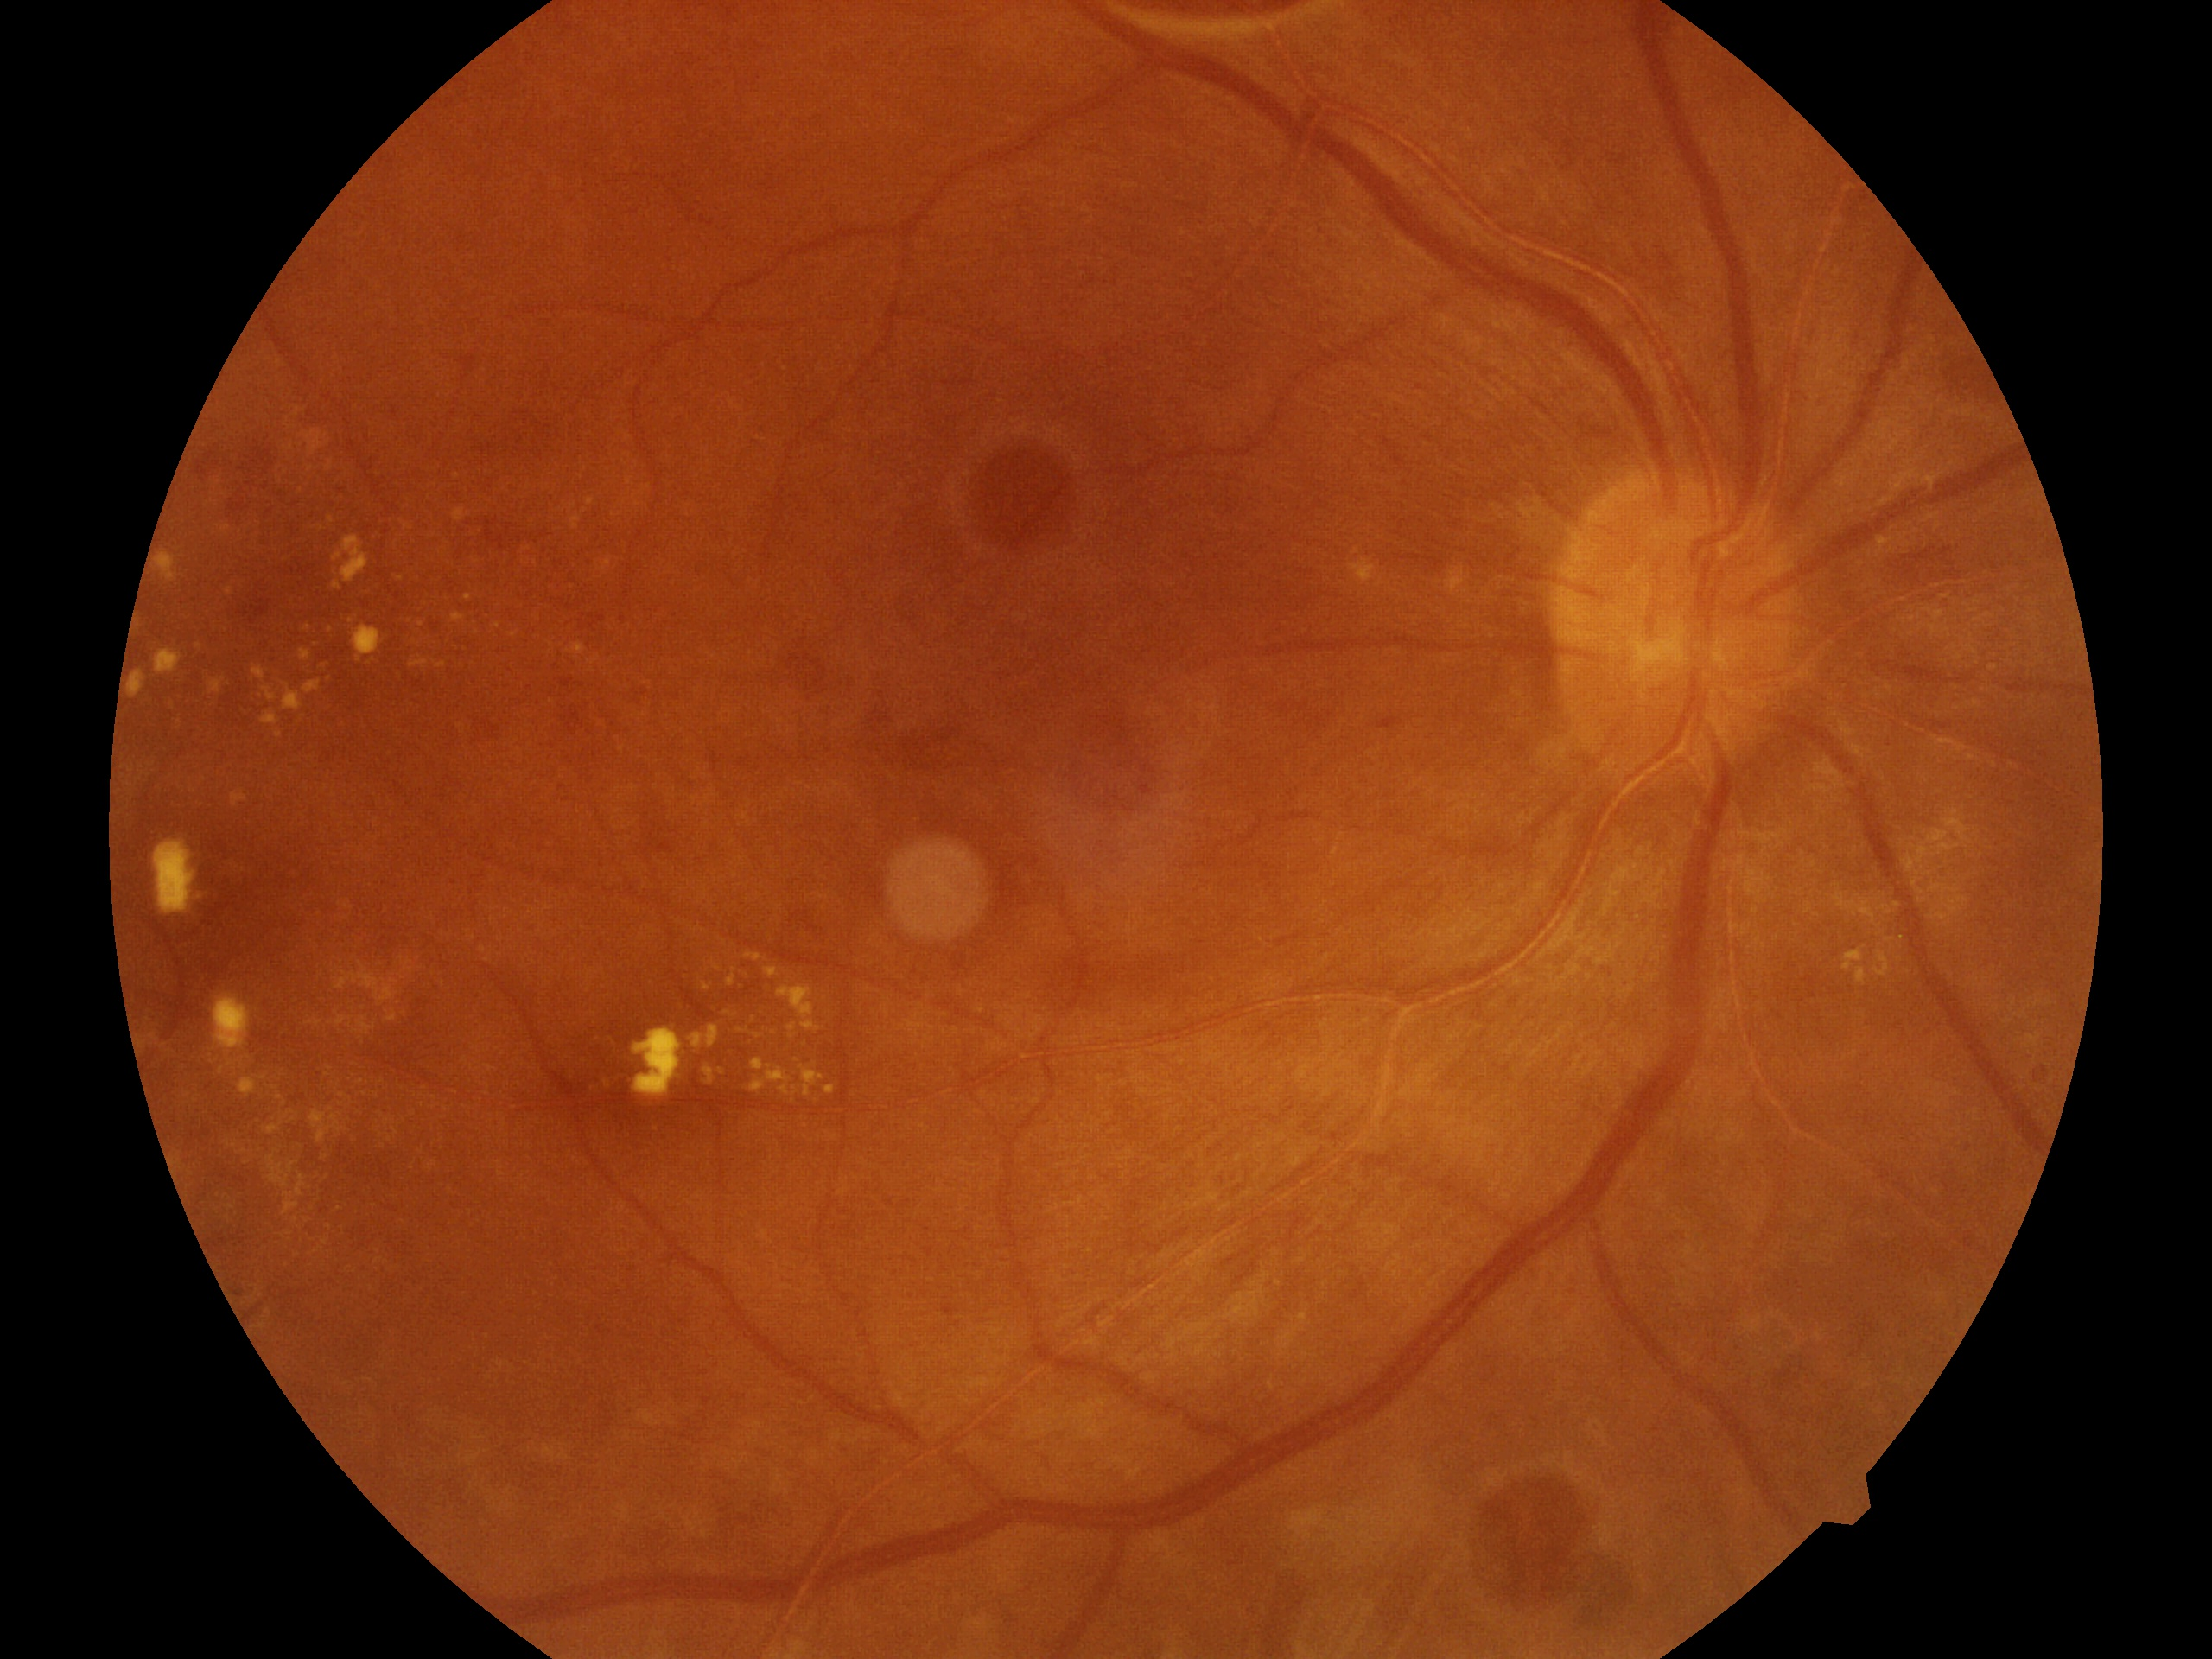Exudates: (629, 972, 836, 1117), (305, 504, 470, 676), (150, 828, 272, 1060)
Optic-Disc: (1541, 451, 1799, 758)
Venules: (1320, 995, 1810, 1358)
